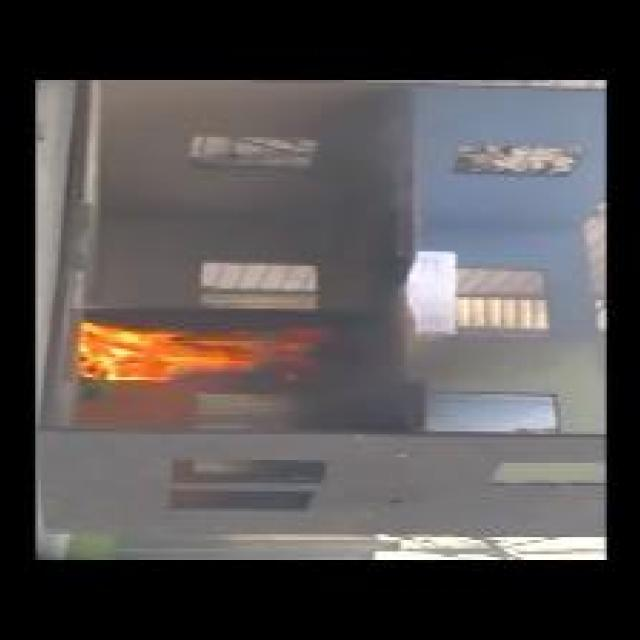Fire: (75, 324, 328, 384)
